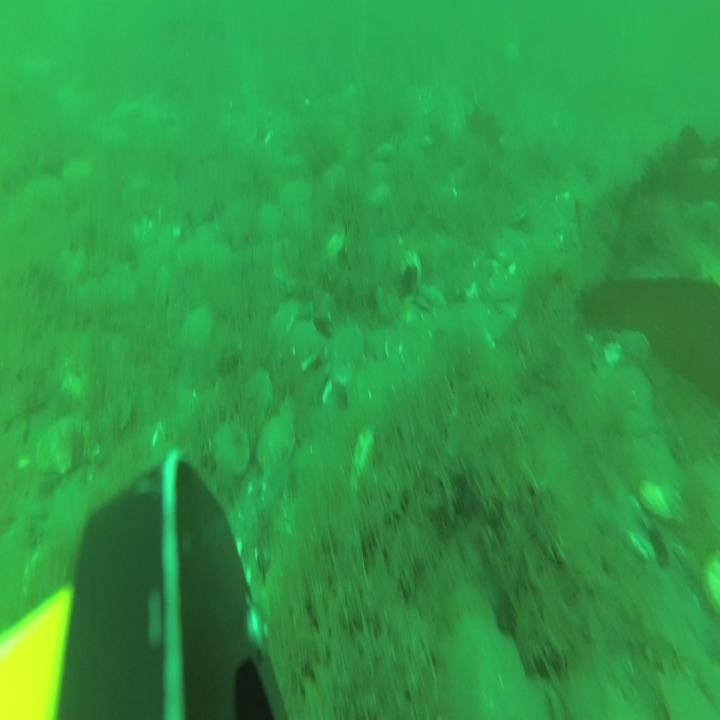scallop: (447, 615, 532, 720), (36, 415, 88, 472), (613, 365, 655, 425), (256, 415, 294, 477), (644, 478, 688, 527), (637, 439, 677, 492), (215, 418, 249, 480), (288, 317, 321, 372), (243, 369, 272, 430), (330, 328, 364, 380), (268, 296, 300, 343), (487, 265, 518, 310), (179, 307, 210, 348), (278, 178, 308, 214), (259, 201, 283, 242), (322, 161, 346, 192)
